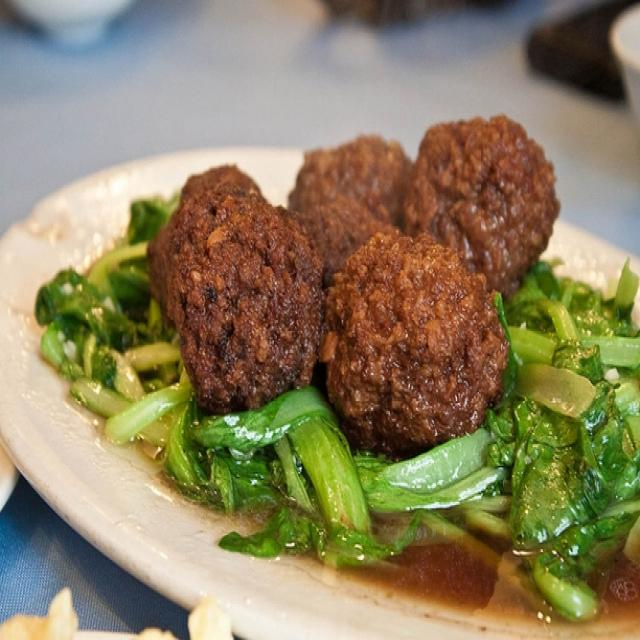Meatball: (315, 223, 514, 453), (170, 184, 328, 416), (406, 102, 572, 303)
